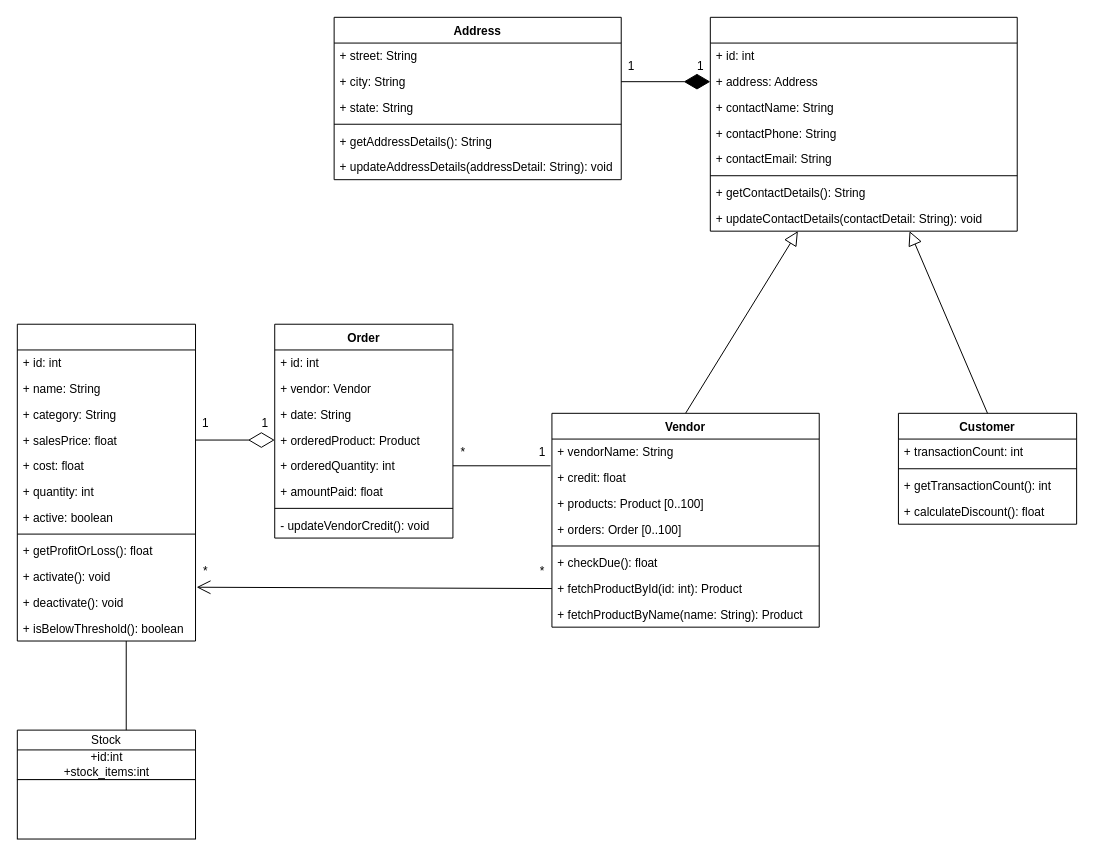
Some shapes in this 1094 by 856 pixel diagram are drawn without their labels. The box of each missing label's shape, as (x1, y1, x2, y2) in pixels:
+productavailability():boolean +searchstock():int: (16, 779, 196, 839)
BusinessPartner: (709, 16, 1017, 231)
Product: (16, 323, 196, 641)
